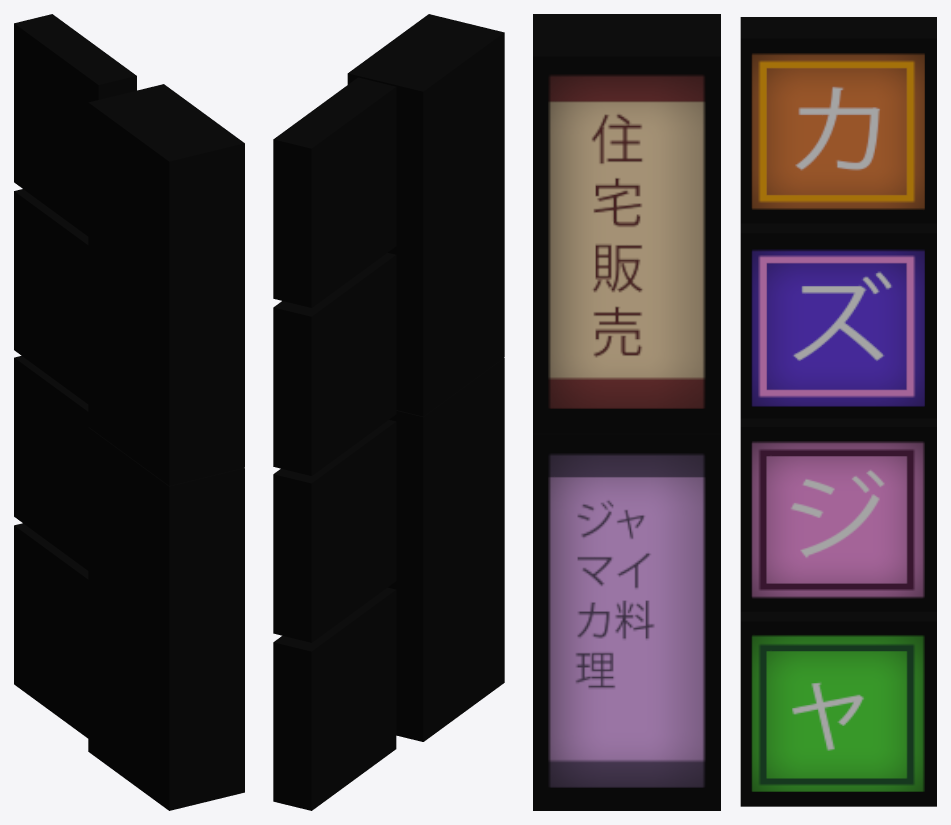
File: MiniSignGroup1.fbx
3 renders of one model, left to right at view 1: azimuth 30°, elevation 25°; view 2: azimuth 150°, elevation 25°; view 3: azimuth 270°, elevation 25°, orthographic. The views are drawn at different scales.
Visible parts, largest first — view 1: Cube.005; view 2: Cube.005; view 3: Cube.005.
Boxes of the visible parts, x1=… form: Cube.005: x1=14, y1=14, x2=244, y2=810; Cube.005: x1=273, y1=14, x2=504, y2=810; Cube.005: x1=533, y1=14, x2=936, y2=810.
Size of the model in its own units: 64.36 by 538 by 257.
